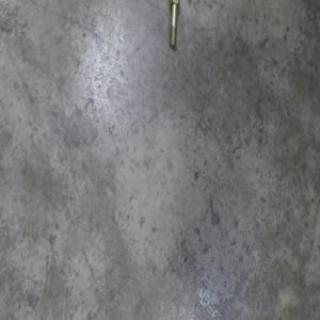Bolttrack_idkeyframe: (166, 1, 180, 52)
